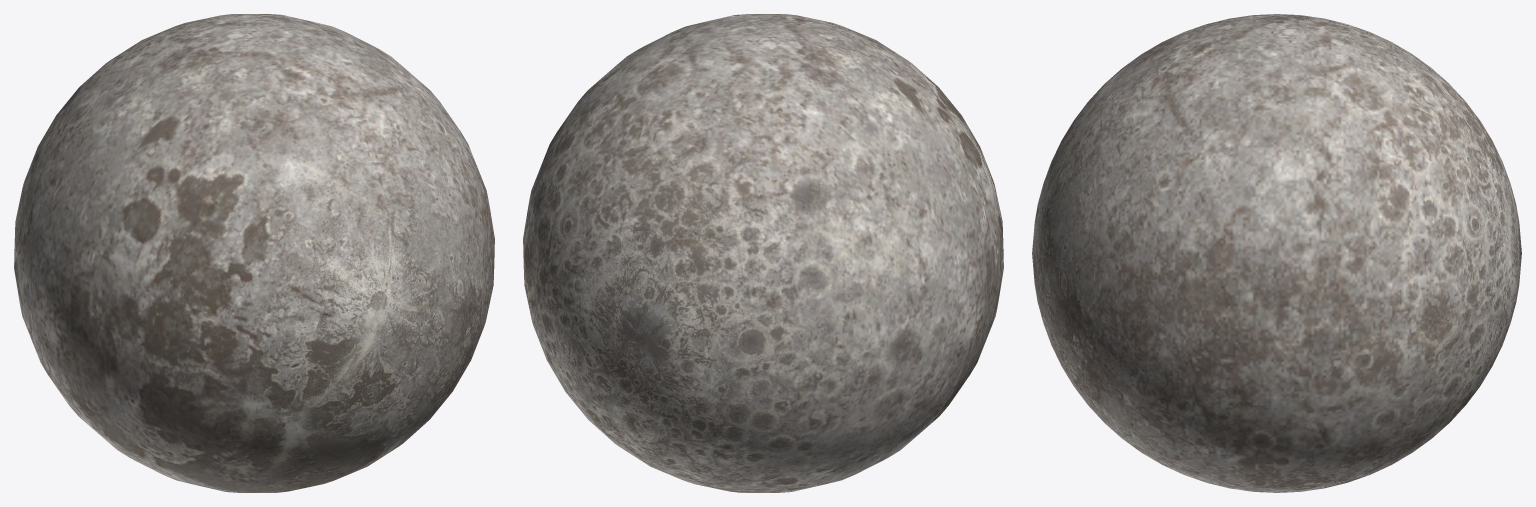
Rendered from moon.glb.
3 renders of one model, left to right at view 1: azimuth 30°, elevation 25°; view 2: azimuth 150°, elevation 25°; view 3: azimuth 270°, elevation 25°, orthographic.
Parts seen in each view (by area): view 1: Moon_obj__MoonBase; view 2: Moon_obj__MoonBase; view 3: Moon_obj__MoonBase.
Part boxes in pixels (x1=…): Moon_obj__MoonBase: x1=14, y1=14, x2=494, y2=492; Moon_obj__MoonBase: x1=523, y1=14, x2=1003, y2=492; Moon_obj__MoonBase: x1=1032, y1=14, x2=1521, y2=492.
Bounding box in the file's own units: 1 × 1 × 1.02.
1 material, 1 textured.
